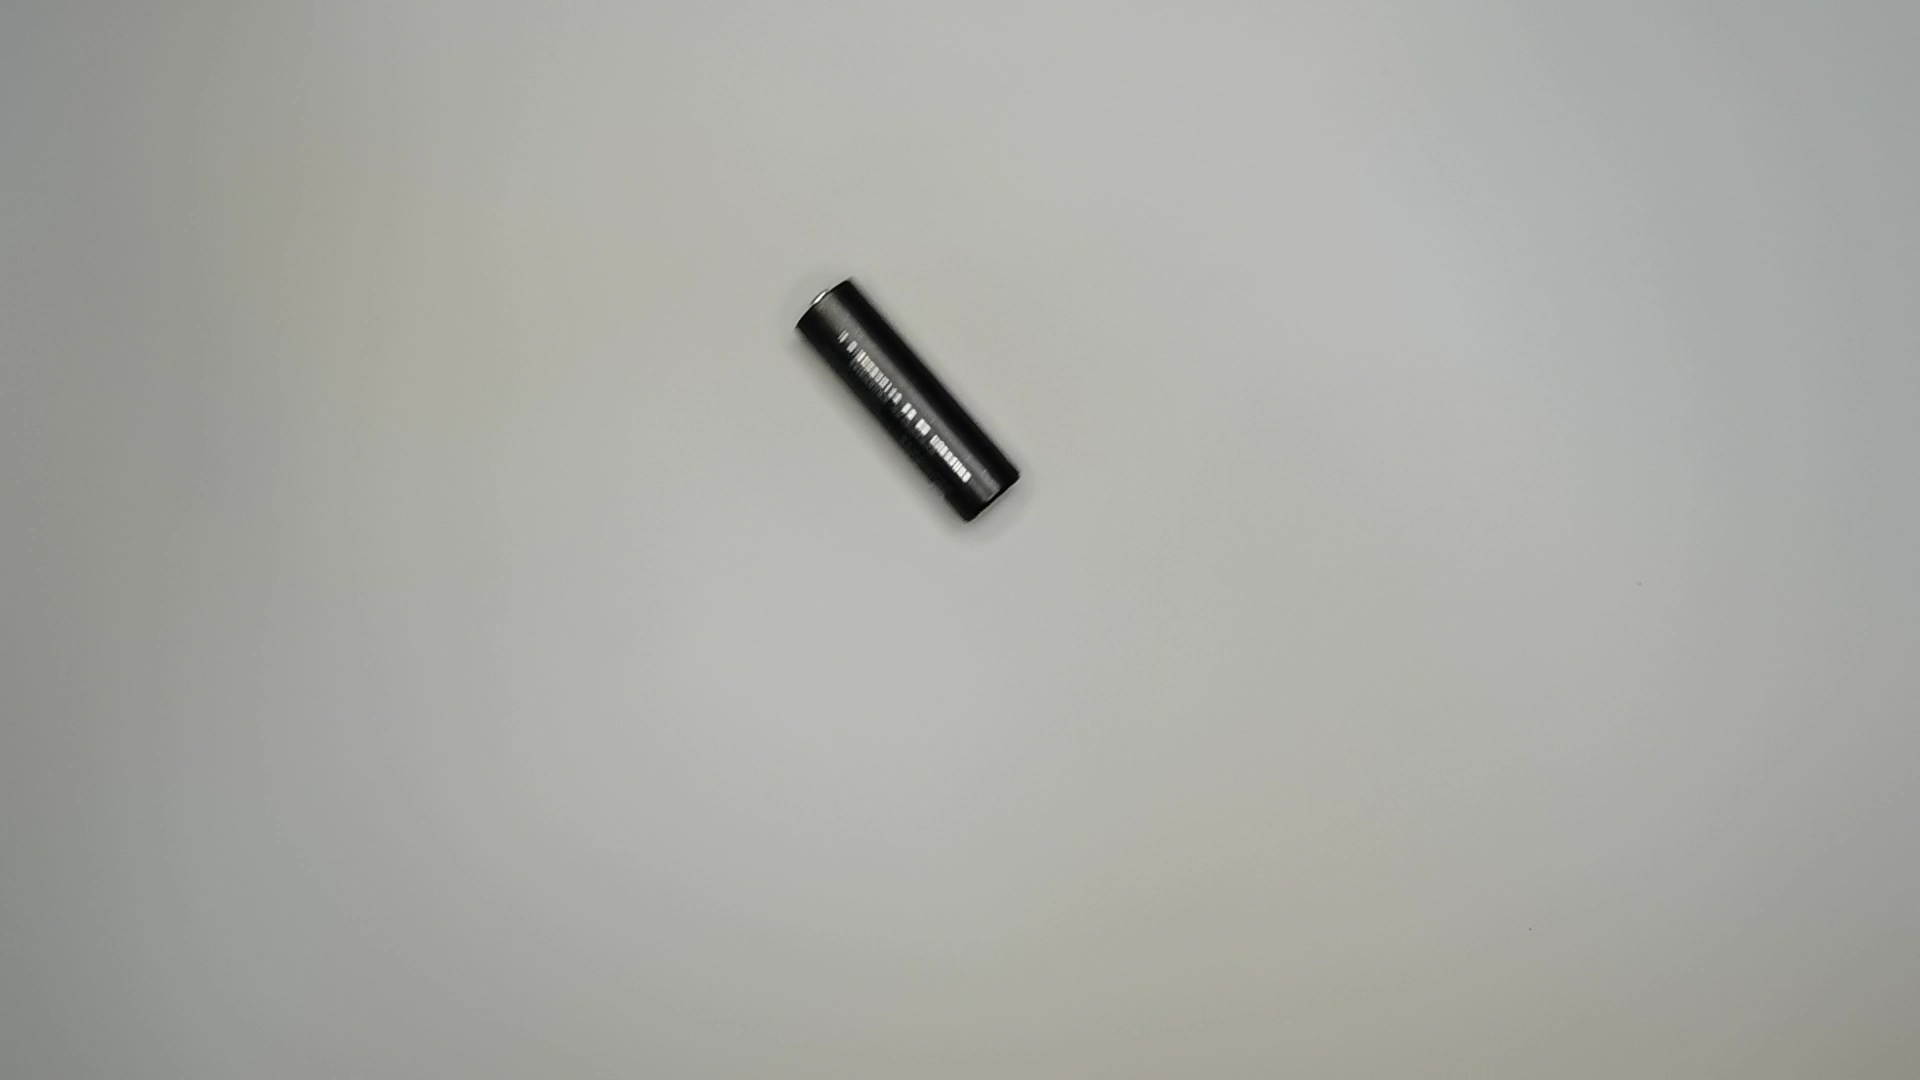battery: (789, 266, 1034, 524)
